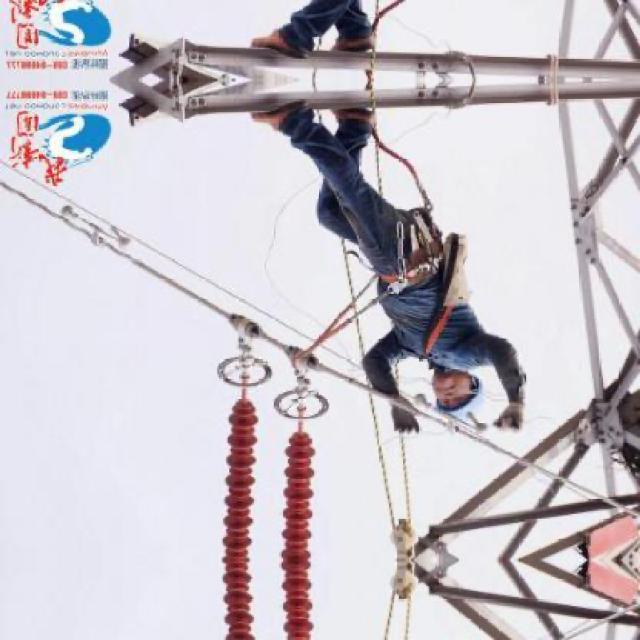con casco: (393, 353, 524, 453)
